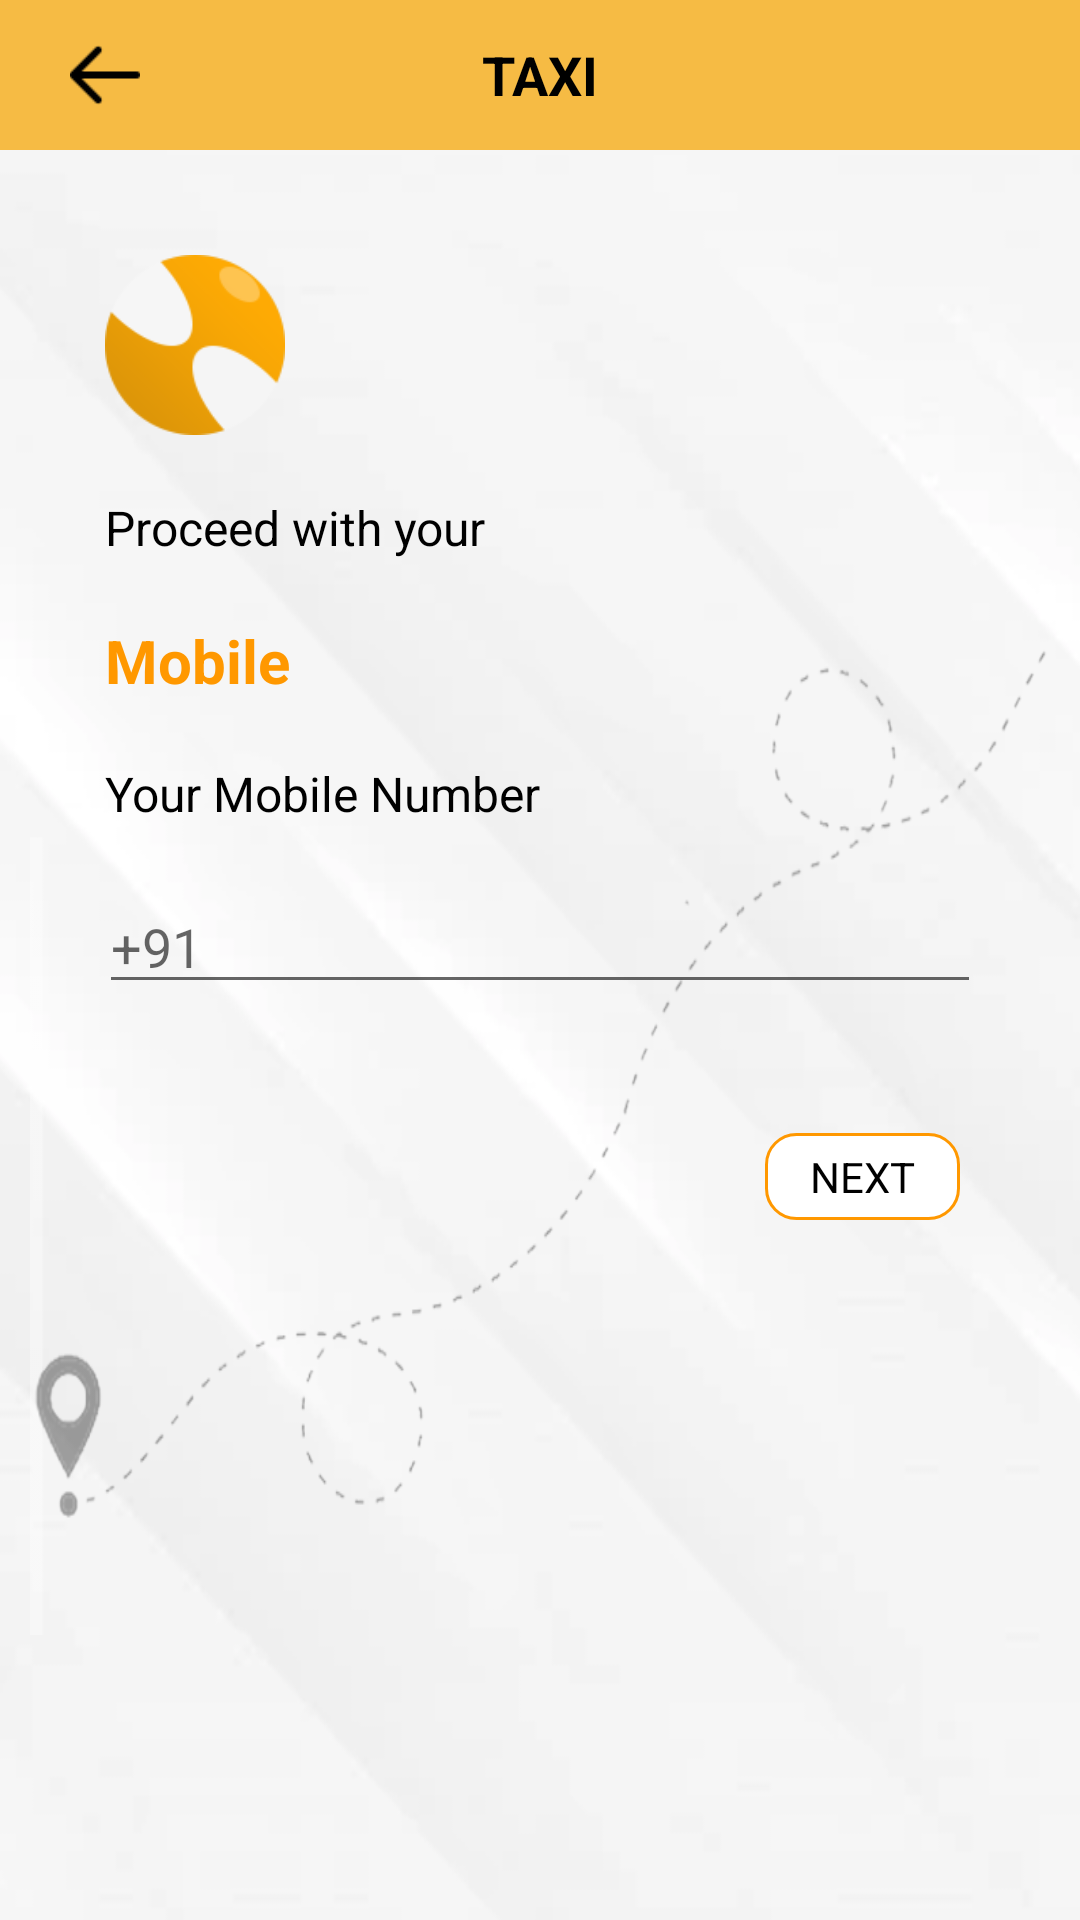

Icons on this 1080×1920 Android screen, each with its box as region(x1, y1, x2, y2):
back: region(70, 46, 140, 104)
